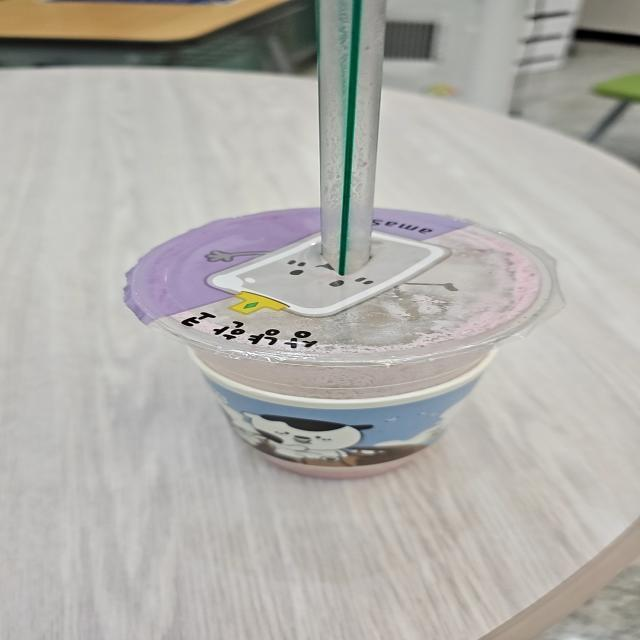cup: (101, 205, 555, 514)
